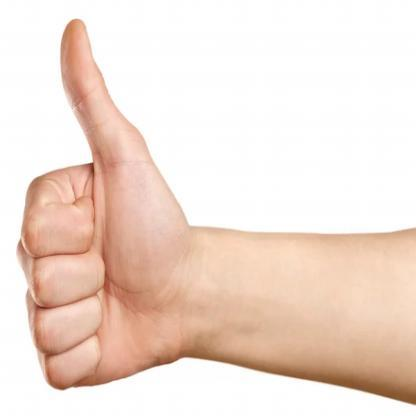thumb_up: (16, 18, 212, 390)
